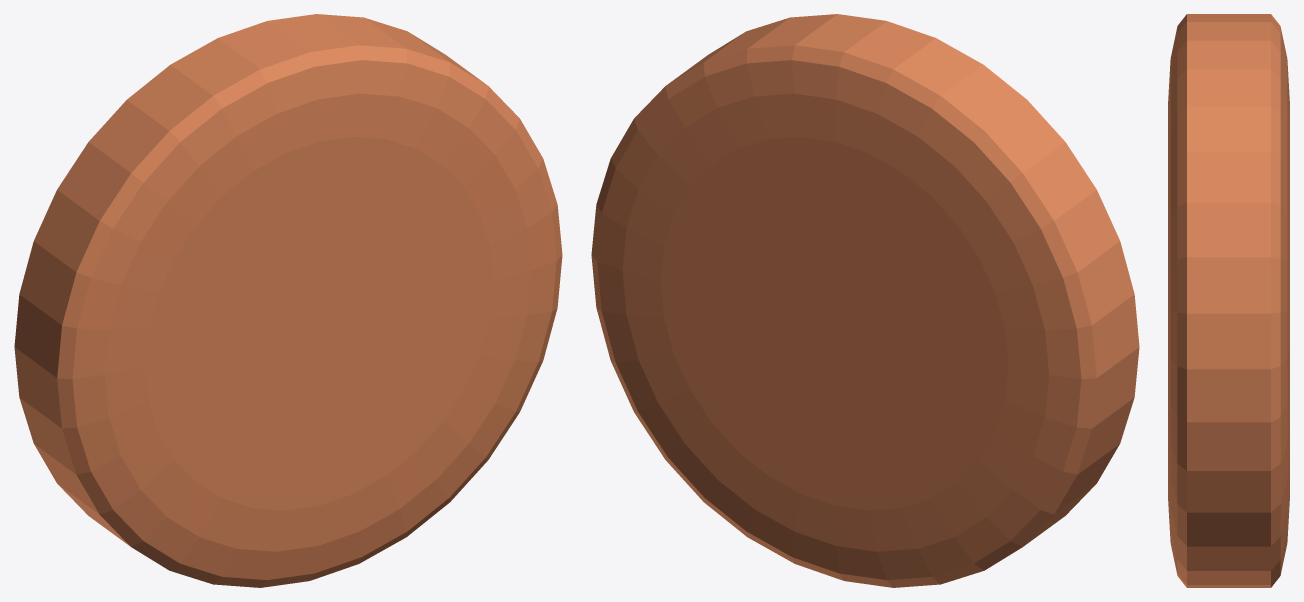
File: bottom_bun.fbx
3 views of the same model, side by side, from view 1: azimuth 30°, elevation 25°; view 2: azimuth 150°, elevation 25°; view 3: azimuth 270°, elevation 25° (orthographic).
Parts seen in each view (by area): view 1: Cylinder.003; view 2: Cylinder.003; view 3: Cylinder.003.
Part boxes in pixels (<box>): Cylinder.003: <box>14,14,562,587</box>; Cylinder.003: <box>591,14,1139,587</box>; Cylinder.003: <box>1168,14,1289,587</box>.
Bounding box in the file's own units: 2711 × 2711 × 575.
